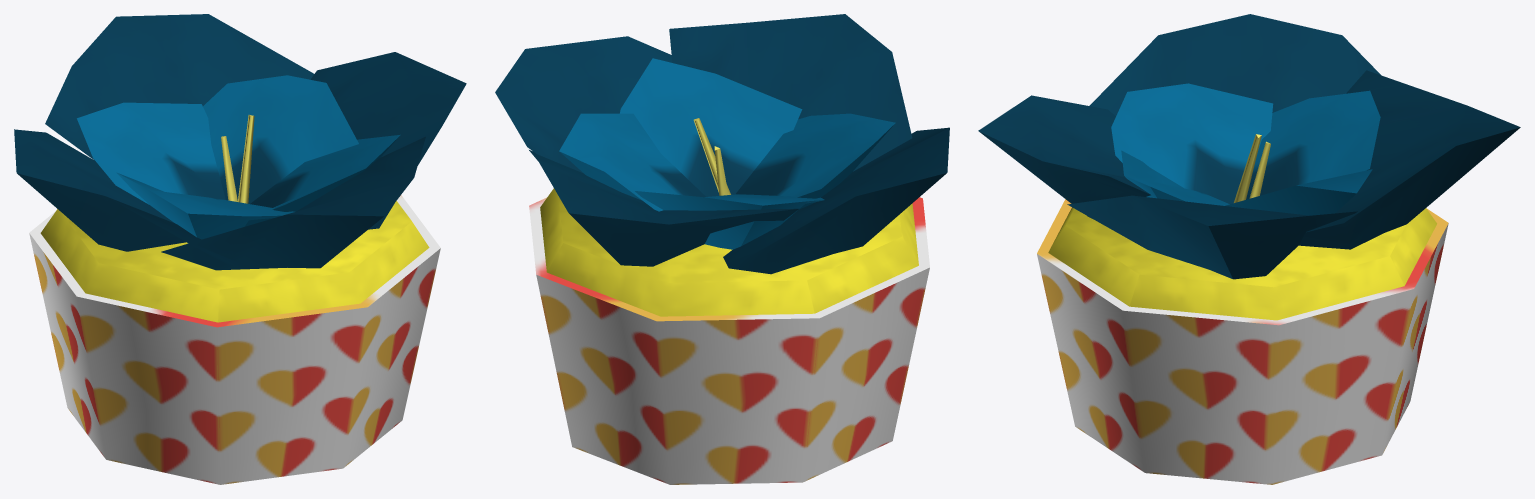
Rendered from Cupcake_B_10.FBX.
The picture shows the model from 3 angles, left to right: view 1: azimuth 30°, elevation 25°; view 2: azimuth 150°, elevation 25°; view 3: azimuth 270°, elevation 25°; orthographic projection. The views are drawn at different scales.
Visible parts, largest first — view 1: Cupcake_B; view 2: Cupcake_B; view 3: Cupcake_B.
Boxes of the visible parts, x1=… form: Cupcake_B: x1=14, y1=14, x2=466, y2=484; Cupcake_B: x1=495, y1=14, x2=949, y2=484; Cupcake_B: x1=978, y1=14, x2=1520, y2=484.
Size of the model in its own units: 38.73 by 26.15 by 41.87.
